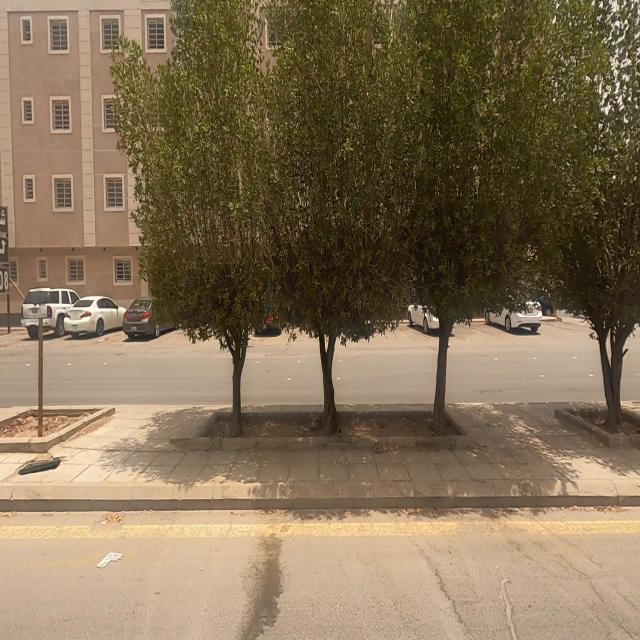debris: (0, 412, 91, 525), (82, 522, 126, 598)
